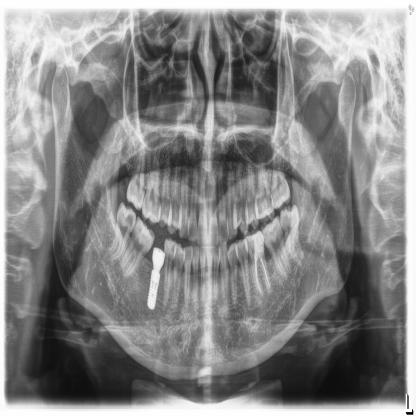ITI: (145, 264, 164, 316)
